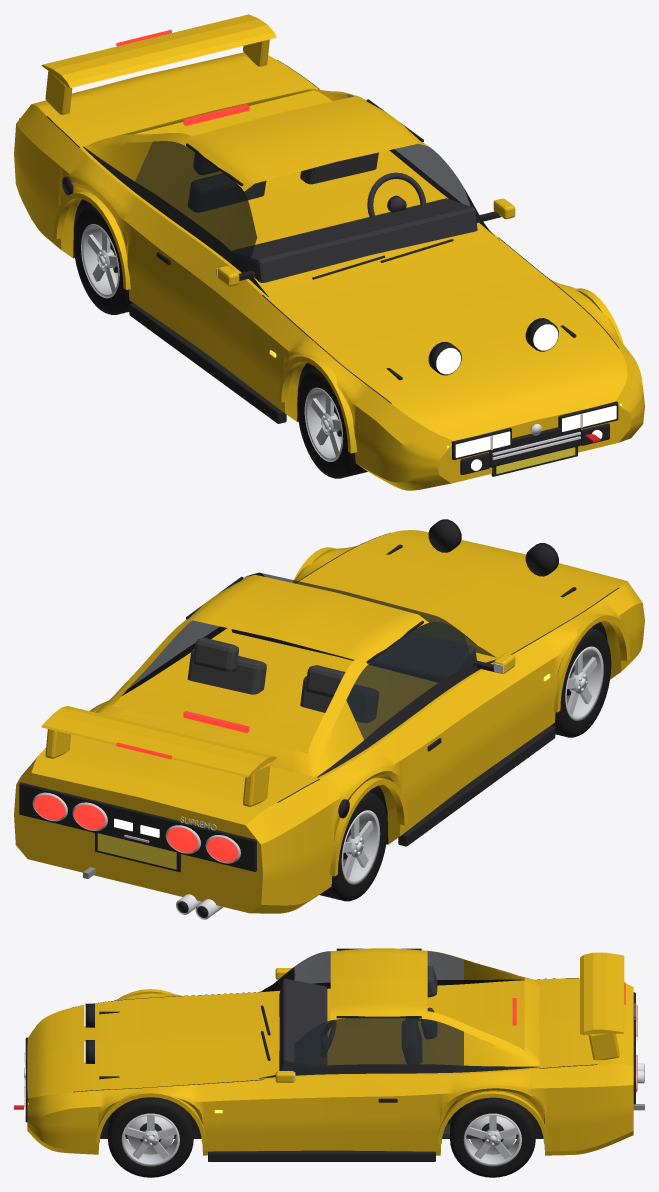
Rendered from supremo.glb.
3 renders of one model, top to bottom at view 1: azimuth 30°, elevation 25°; view 2: azimuth 150°, elevation 25°; view 3: azimuth 270°, elevation 25°, orthographic. The views are drawn at different scales.
Visible parts, largest first — view 1: hood, nose, tub, cabin_roof, door_R, cabin_glass, dash, deck_lid, quarter_R, fender_R, spoiler, tail (+15 smaller); view 2: tail, hood, cabin_roof, tub, door_R, cabin_glass, quarter_R, fender_R, spoiler, tail_garnish, wheel_FR, wheel_RR (+20 smaller); view 3: hood, door_L, tub, cabin_roof, cabin_glass, quarter_L, fender_L, nose, wheel_FL, wheel_RL, deck_lid, dash (+8 smaller).
Boxes of the visible parts, x1,y1,x2,y2 form: hood: (263, 237, 618, 403); nose: (374, 348, 644, 490); tub: (80, 91, 497, 294); cabin_roof: (84, 89, 428, 191); door_R: (136, 210, 261, 383); cabin_glass: (135, 94, 470, 269); dash: (232, 198, 477, 282); deck_lid: (48, 60, 319, 147); quarter_R: (29, 117, 153, 305); fender_R: (245, 295, 390, 481); spoiler: (41, 14, 276, 87); tail: (14, 52, 276, 217); tail: (14, 748, 294, 913); hood: (296, 532, 617, 660); cabin_roof: (95, 574, 428, 777); tub: (94, 628, 493, 778); door_R: (393, 670, 515, 829); cabin_glass: (135, 573, 495, 739); quarter_R: (278, 734, 409, 913); fender_R: (506, 588, 636, 750); spoiler: (41, 706, 276, 777); tail_garnish: (19, 782, 256, 871); wheel_FR: (551, 627, 611, 737); wheel_RR: (320, 791, 387, 901); hood: (73, 992, 263, 1091); door_L: (264, 1075, 427, 1151); tub: (264, 979, 539, 1079); cabin_roof: (330, 948, 539, 1066); cabin_glass: (294, 951, 463, 1070); quarter_L: (427, 1065, 597, 1155); fender_L: (73, 1080, 263, 1155); nose: (27, 1007, 72, 1153); wheel_FL: (108, 1097, 193, 1177); wheel_RL: (450, 1091, 535, 1177); deck_lid: (539, 978, 597, 1068); dash: (279, 978, 327, 1070).
Size of the model in its own units: 1.89 by 1.26 by 4.7.
